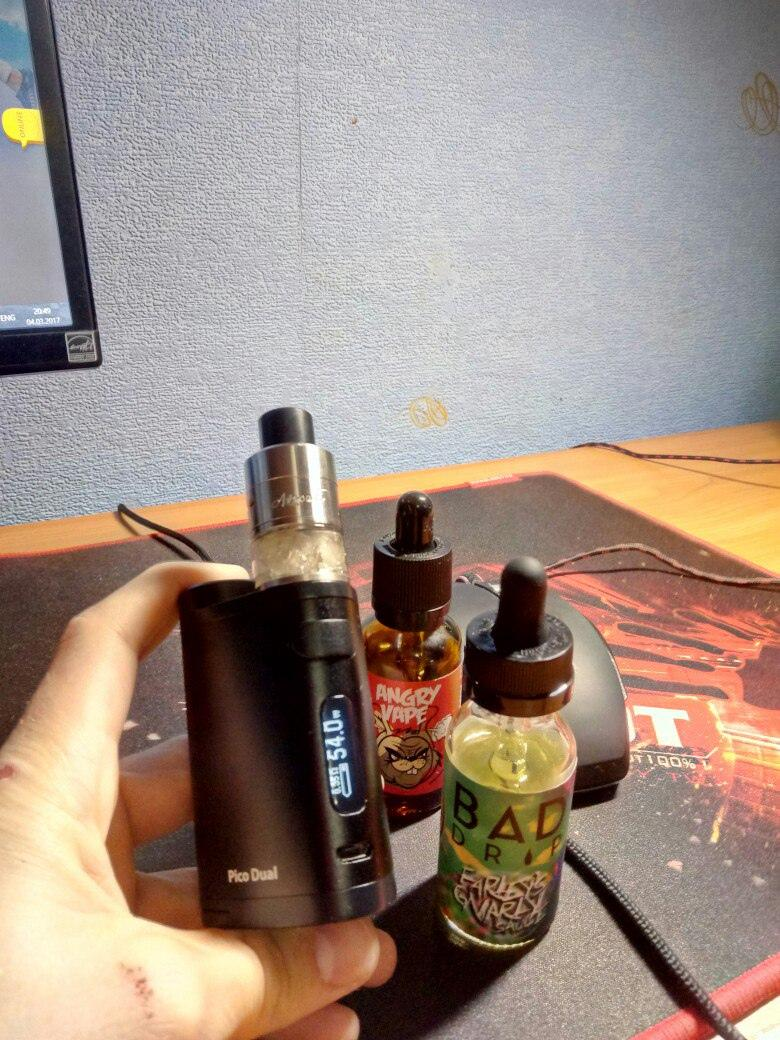Vape: (180, 408, 395, 929)
